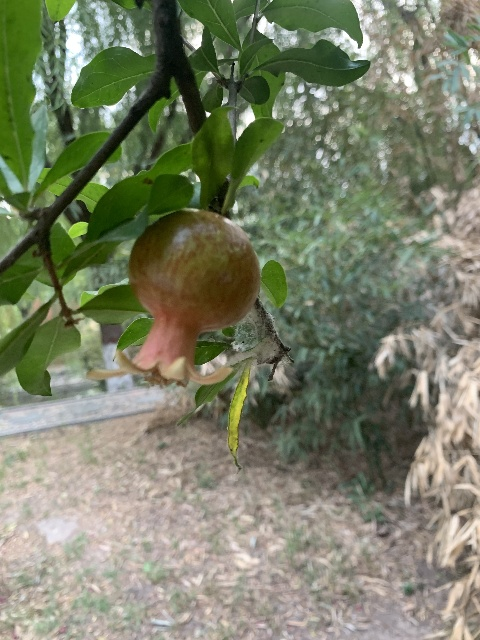early-fruit: (87, 209, 260, 390)
